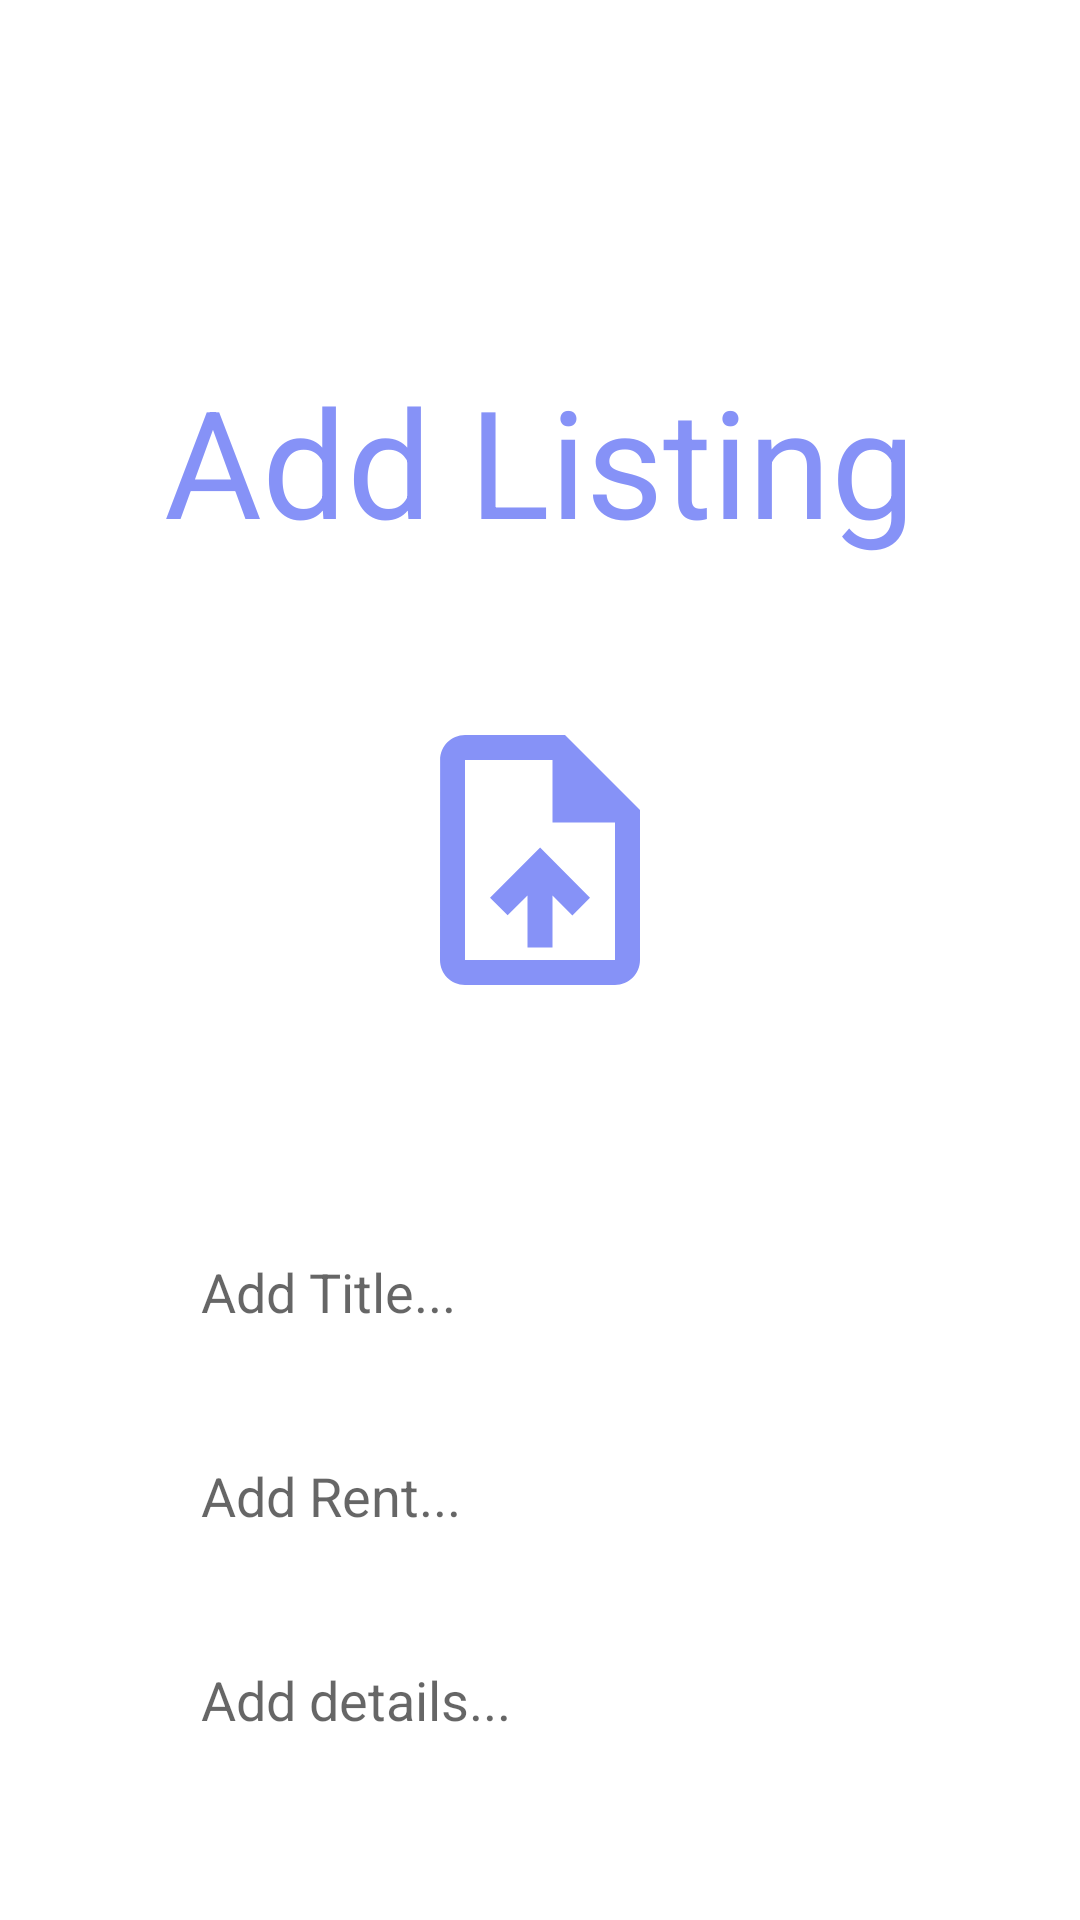

Named icons in this screenshot (1080px×1920px) and their centers, point (x, y):
upload file: point (540, 860)
